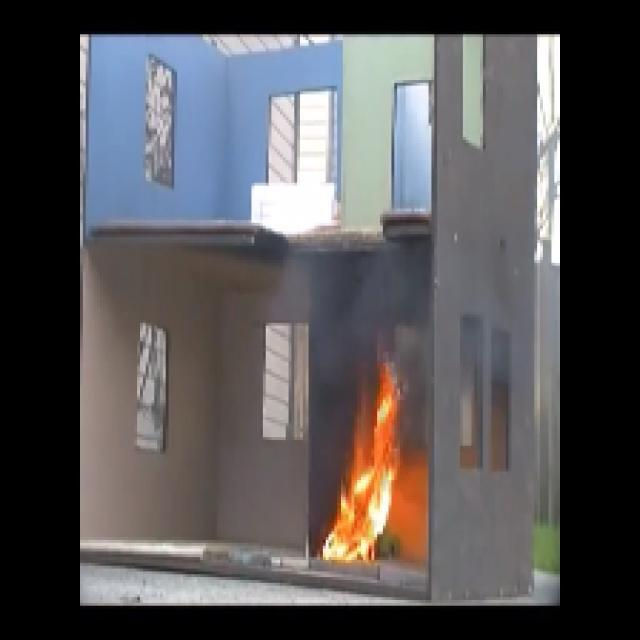Fire: (334, 423, 396, 558)
Smoke: (320, 257, 416, 335)
